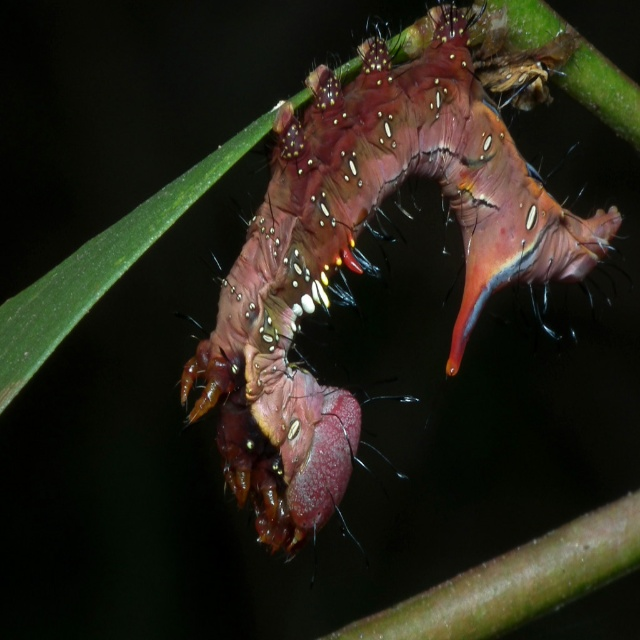Caterpillar: (180, 0, 632, 551)
